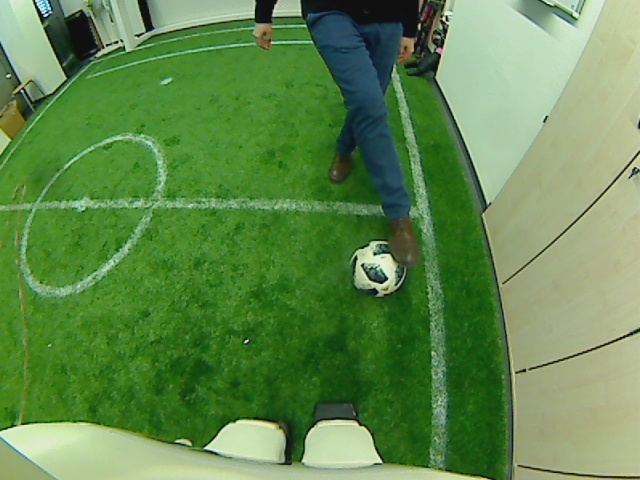ball: (348, 241, 407, 296)
